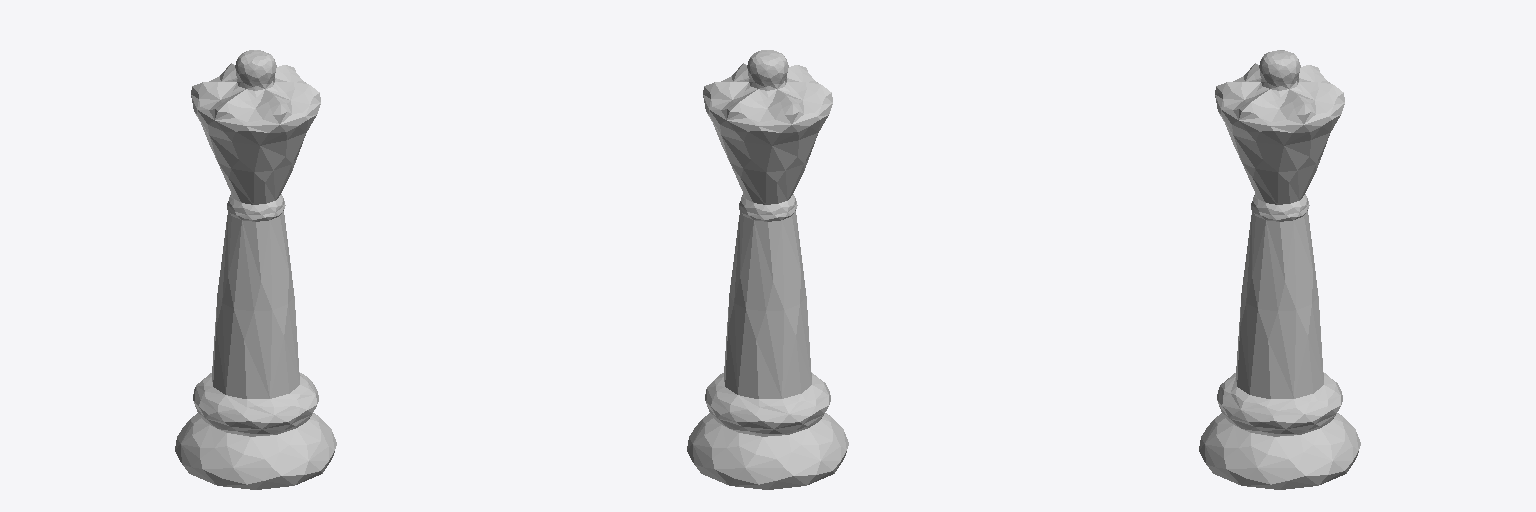
The model's file is Reina.obj.
The picture shows the model from 3 angles: view 1: azimuth 30°, elevation 25°; view 2: azimuth 150°, elevation 25°; view 3: azimuth 270°, elevation 25°; orthographic projection.
Parts seen in each view (by area): view 1: Queen.001; view 2: Queen.001; view 3: Queen.001.
Part boxes in pixels (left/top/right/bottom): Queen.001: left=175, top=50, right=336, bottom=489; Queen.001: left=687, top=50, right=848, bottom=489; Queen.001: left=1199, top=50, right=1360, bottom=489.
Size of the model in its own units: 2.29 by 6.36 by 2.32.